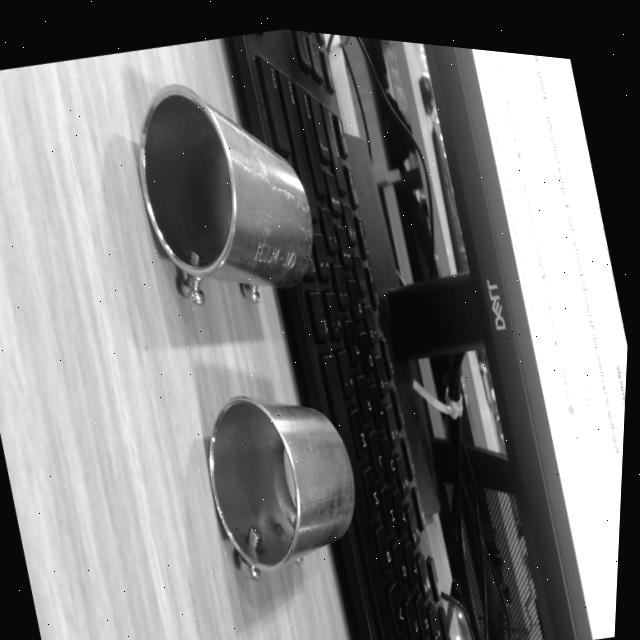Co_Lon: (112, 52, 331, 327)
Co_Nho: (192, 376, 368, 578)
